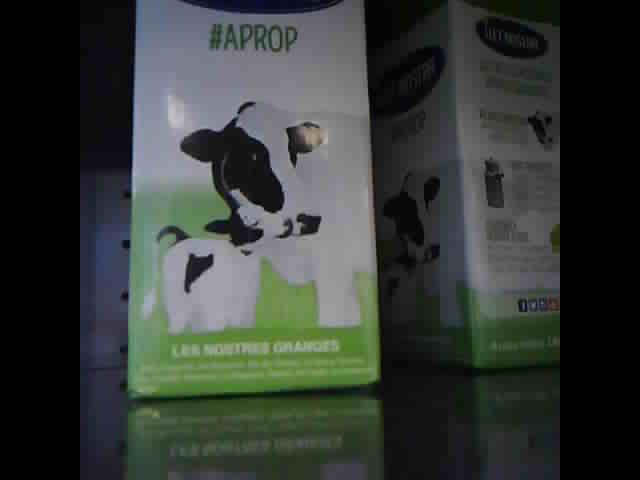leche: (126, 4, 379, 398), (380, 4, 560, 371)
